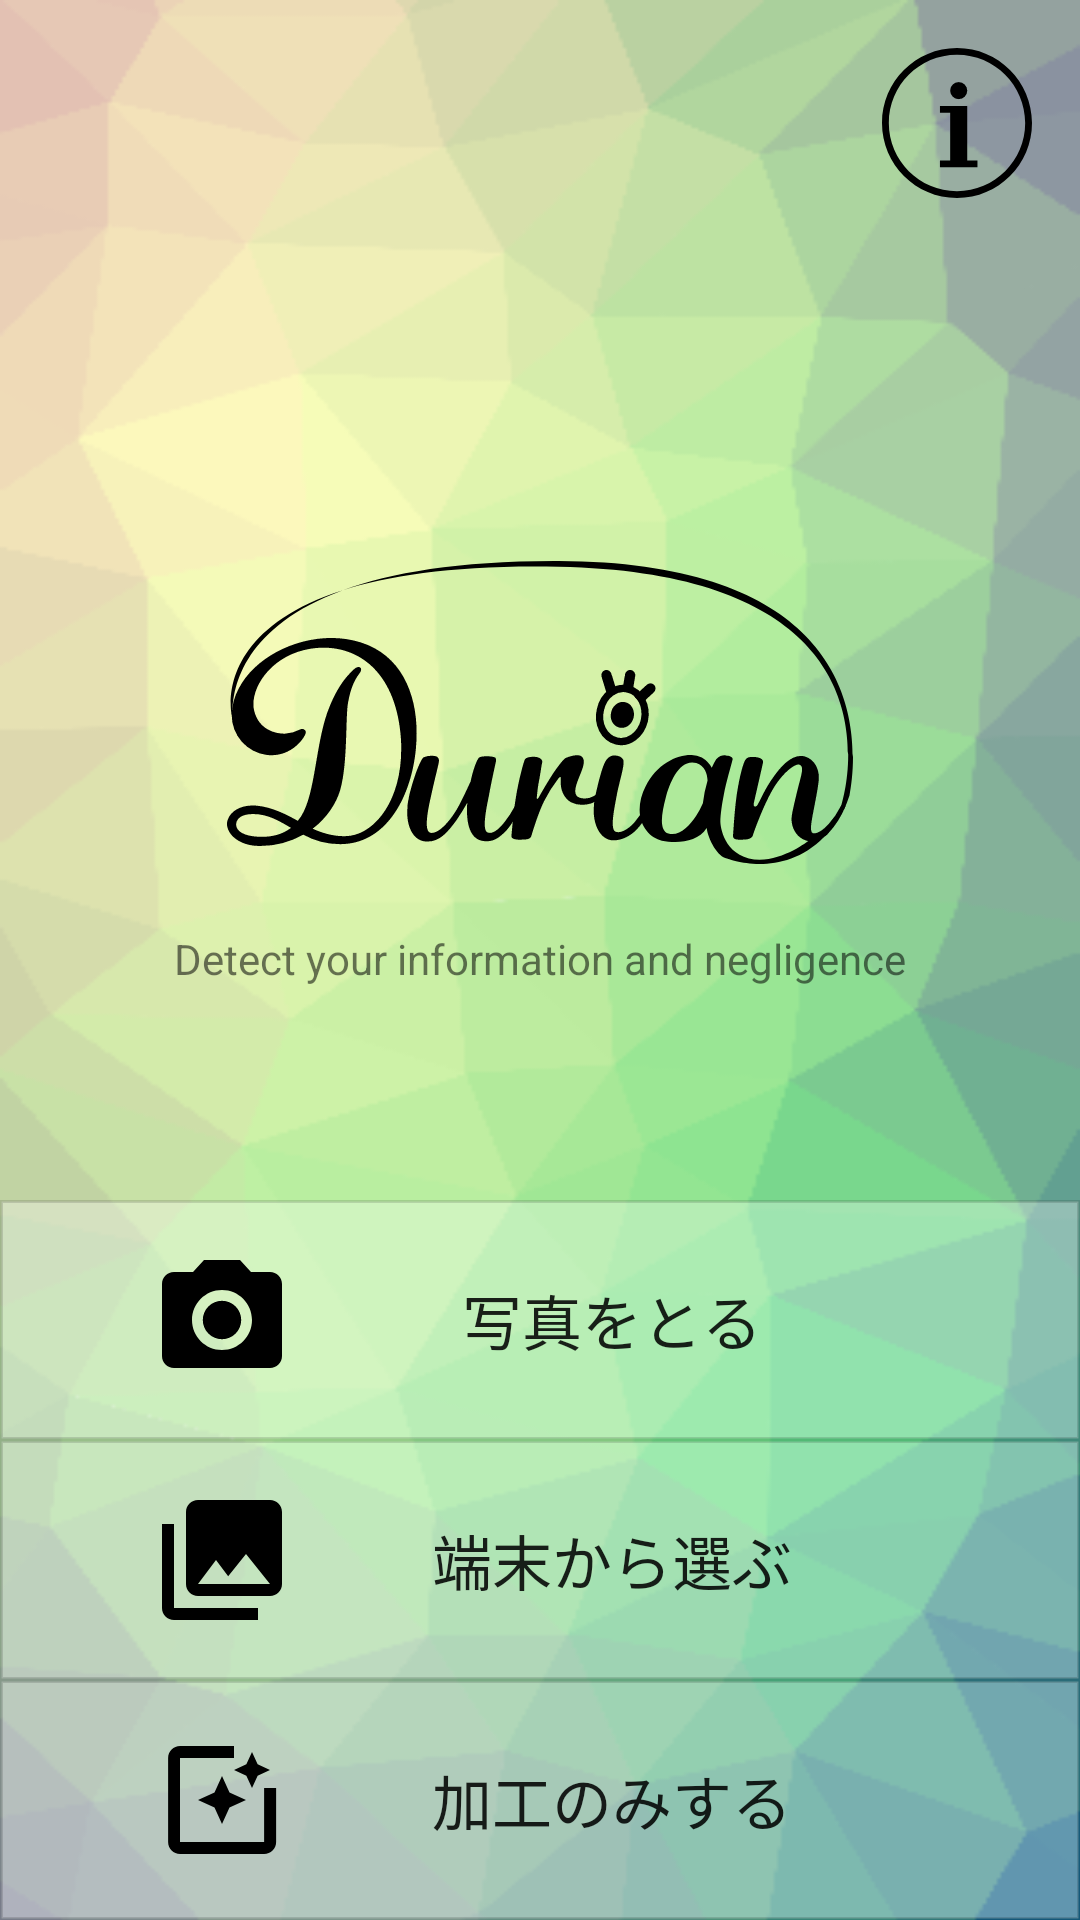

Where to tap for icons on this 1080px×1920px app screen, as (x,y):
information: (957,123)
